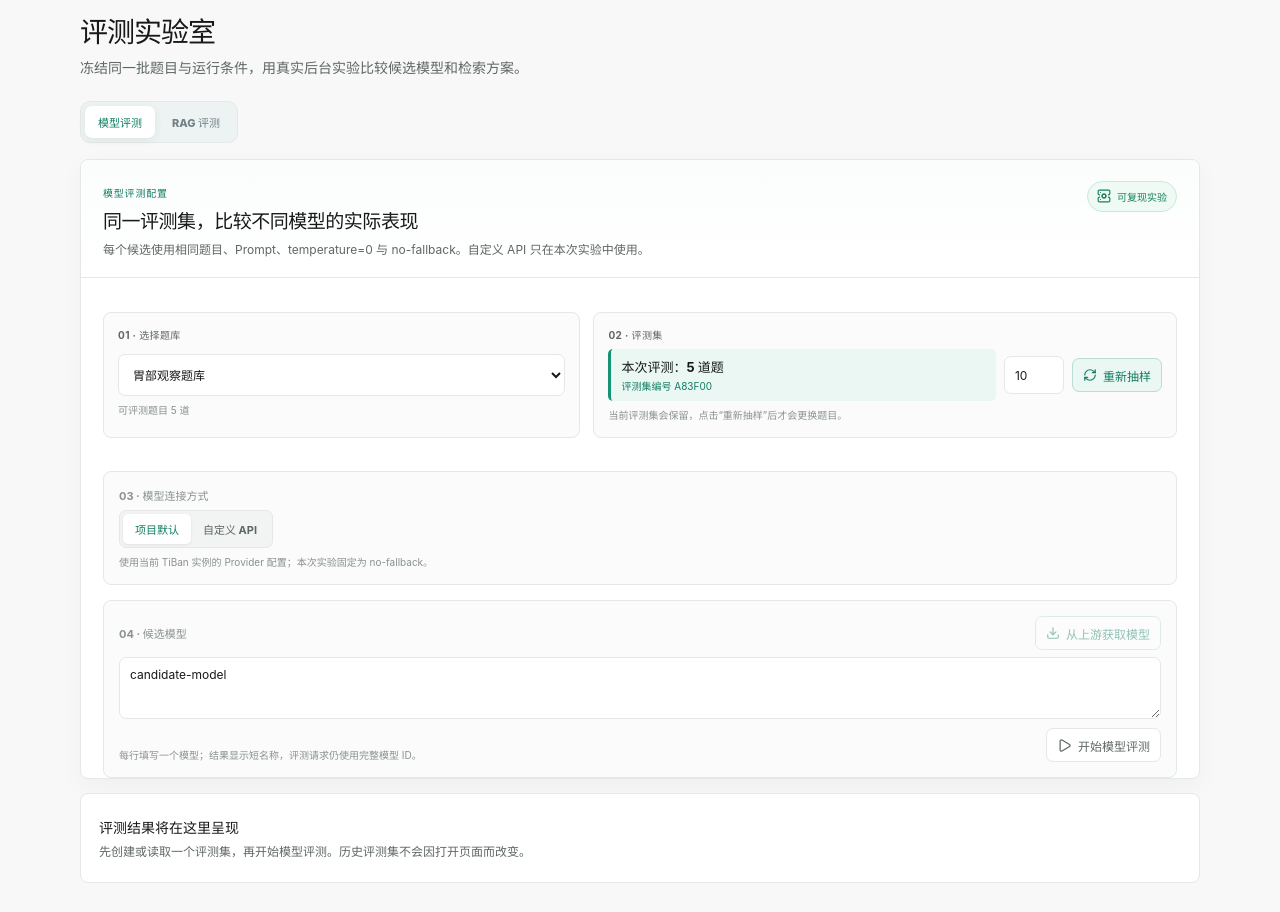
Test: Stage 1 page contracts › shows custom model connection inputs only when requested and keeps the key masked
Click the button "自定义 API" at (230, 529), box [191, 514, 269, 544]
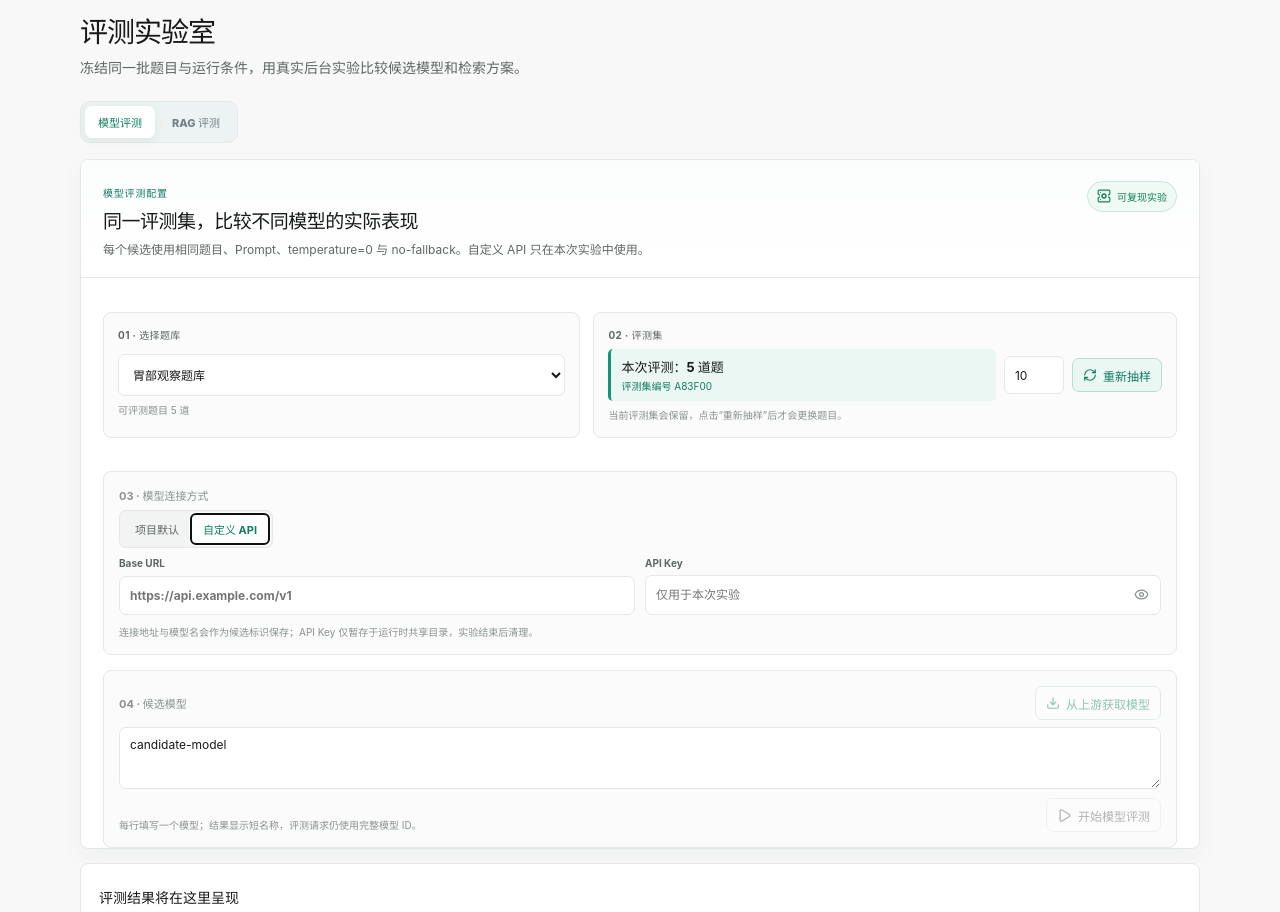
Type "secret-for-test" into the password field named "评测 API Key" at (884, 595), box [646, 576, 1122, 614]
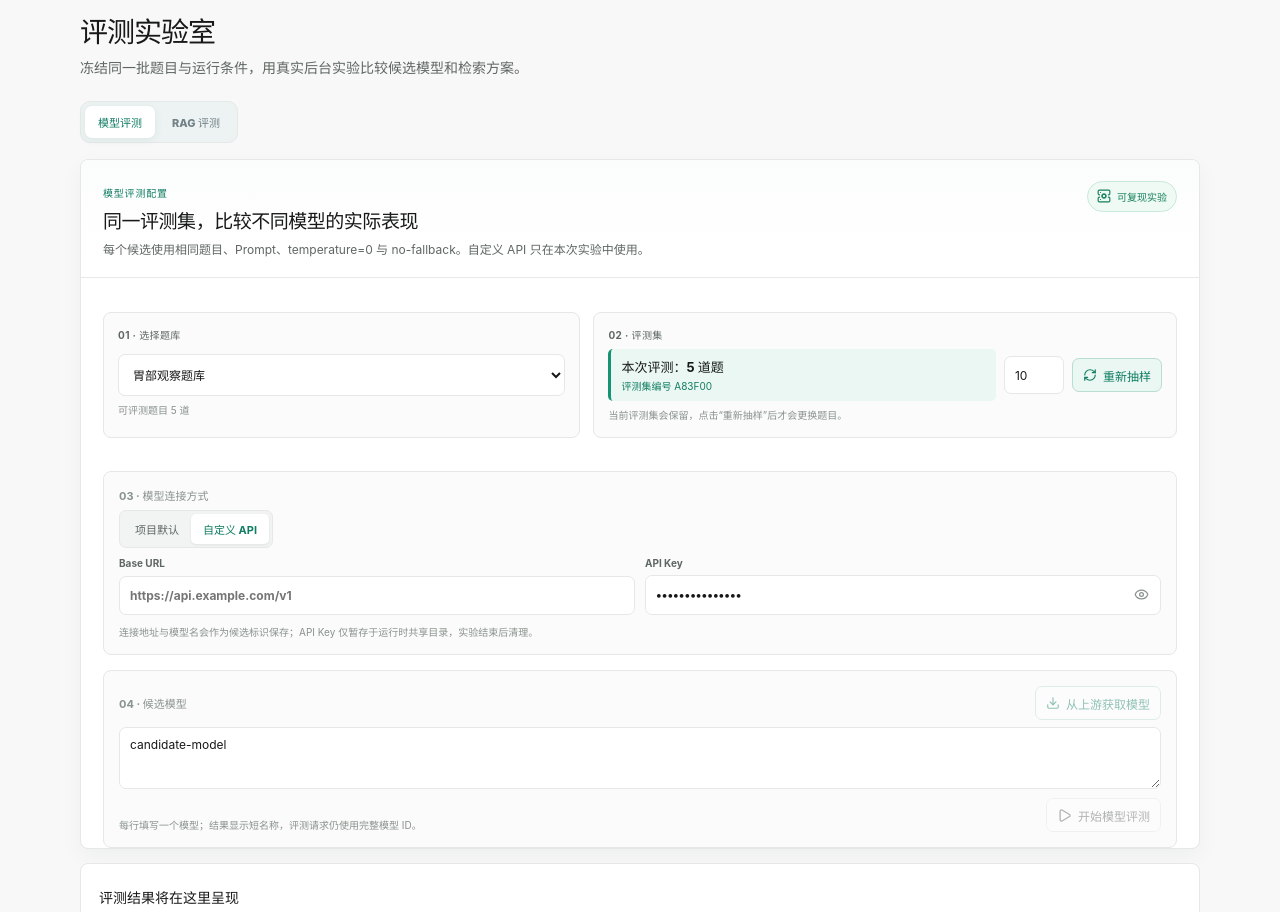
Click the button named "显示评测 API Key" at (1141, 595), box [1122, 576, 1160, 614]
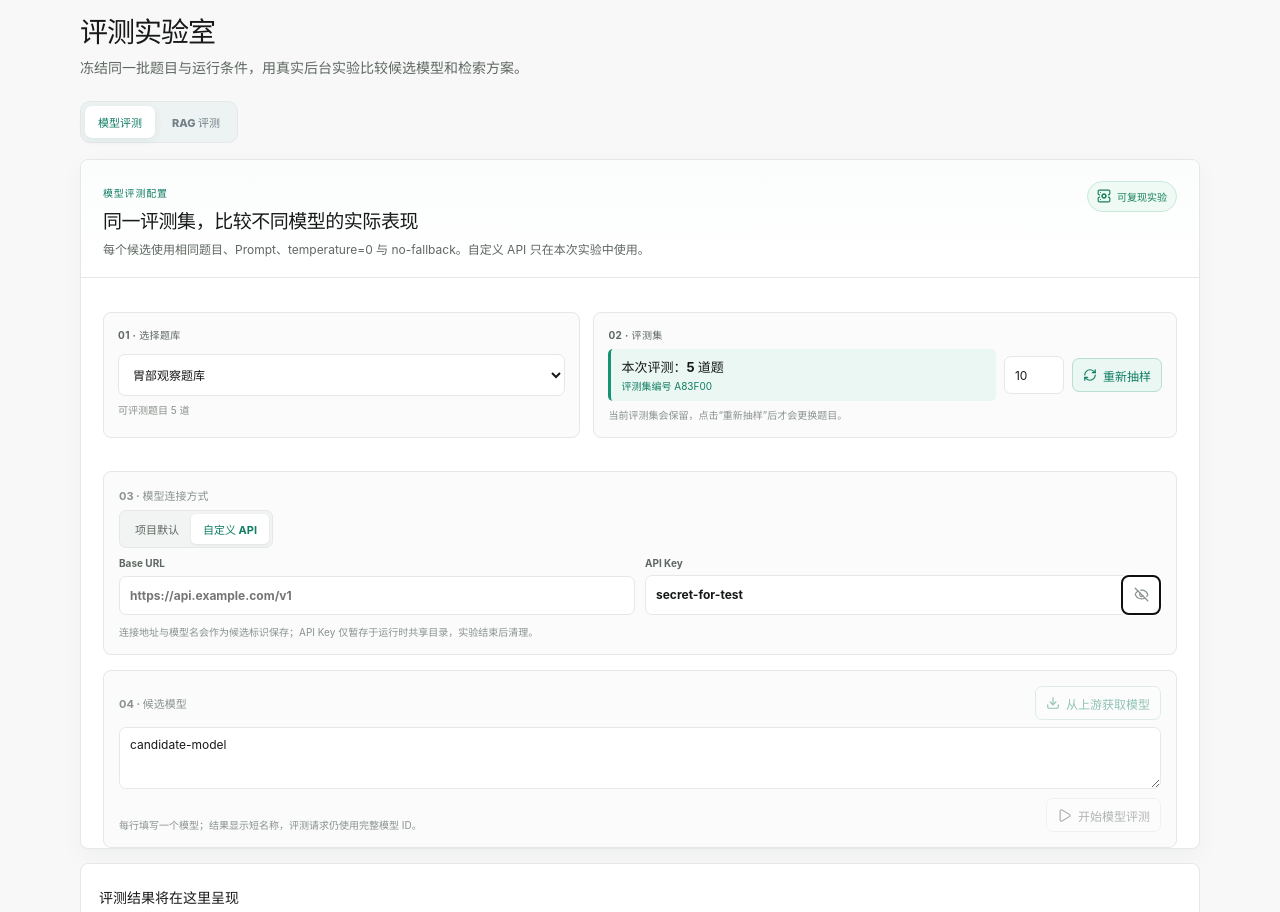
Expected: the button "从上游获取模型" is disabled, [1035, 686, 1161, 720]
Now the field named "评测 Base URL" is shown, box [119, 576, 635, 615]
Now the field named "评测 API Key" shows its text, box [646, 576, 1122, 614]
